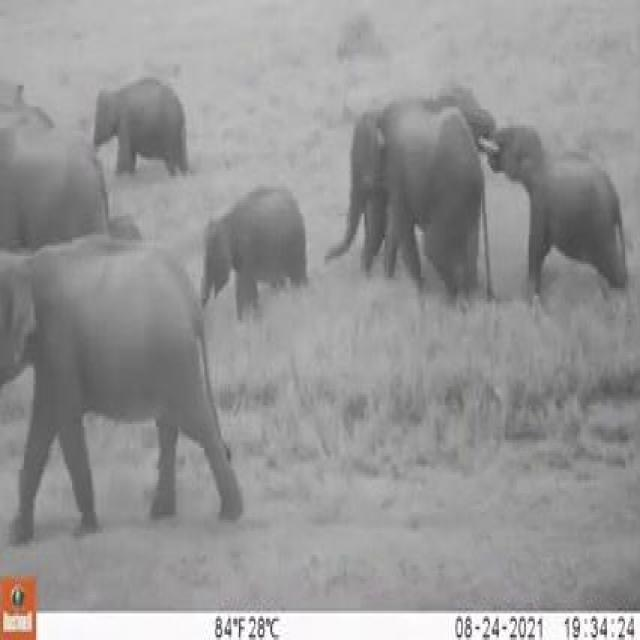Elephant: (2, 240, 238, 510), (334, 91, 484, 279), (487, 115, 630, 286), (1, 112, 117, 243), (198, 182, 314, 296), (91, 72, 190, 175)
